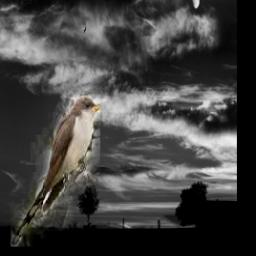Cuckoo: (11, 95, 100, 248)
